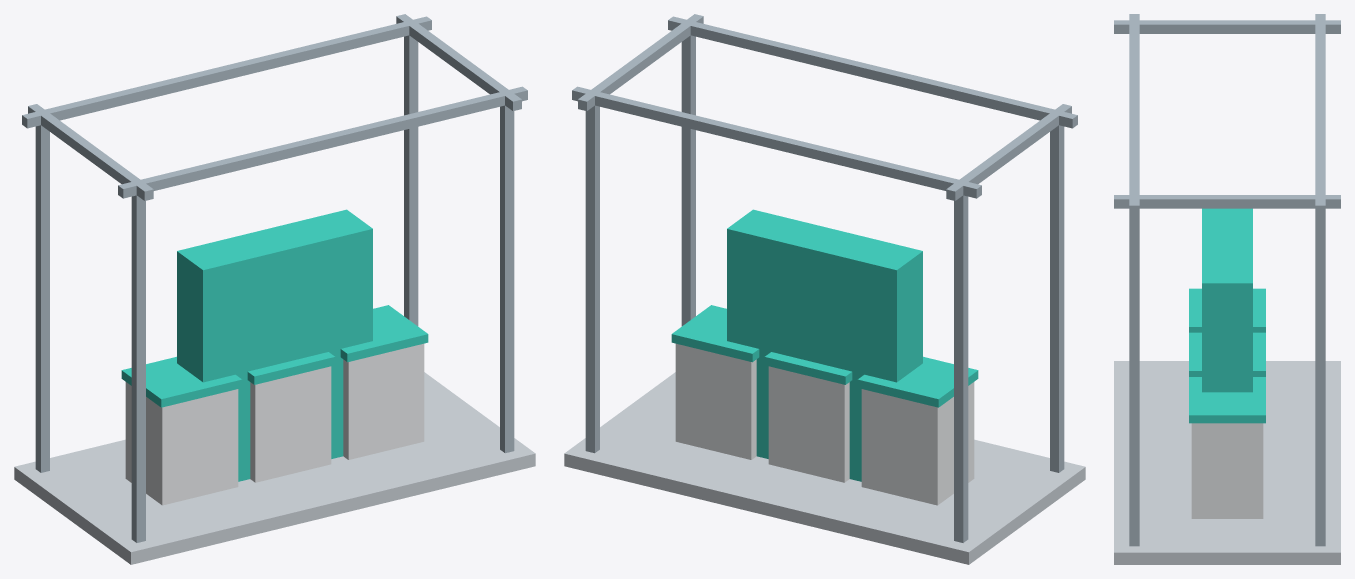
3 renders of one model, left to right at view 1: azimuth 30°, elevation 25°; view 2: azimuth 150°, elevation 25°; view 3: azimuth 270°, elevation 25°, orthographic. The views are drawn at different scales.
Parts seen in each view (by area): view 1: Exhibition Booth Concept; view 2: Exhibition Booth Concept; view 3: Exhibition Booth Concept.
Boxes of the visible parts, x1,y1,x2,y2 form: Exhibition Booth Concept: (14,14,535,564); Exhibition Booth Concept: (564,14,1085,564); Exhibition Booth Concept: (1114,14,1340,564).
Bounding box in the file's own units: 4 × 3.49 × 2.
